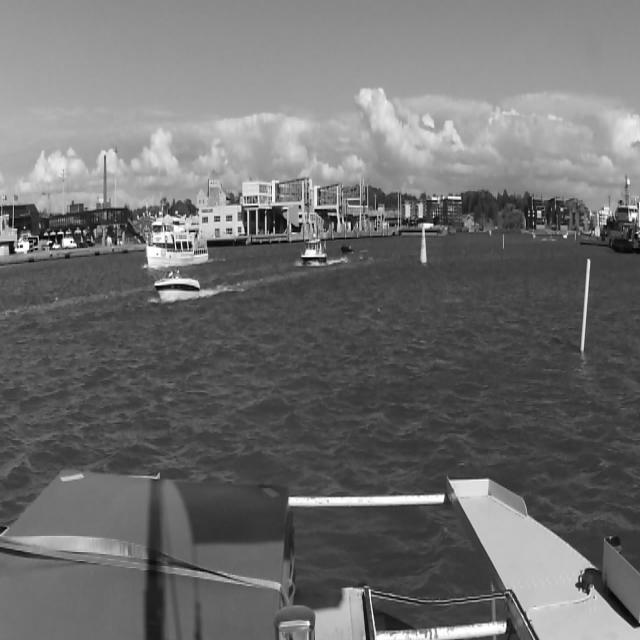buoy: (580, 258, 592, 354), (419, 228, 426, 262)
ship: (581, 178, 639, 244), (145, 210, 209, 268), (152, 267, 203, 303), (302, 234, 326, 264)
